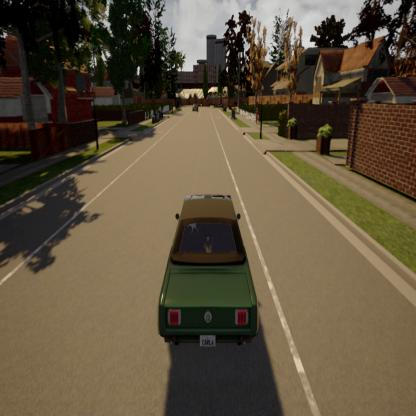Cars: (158, 194, 258, 351), (192, 102, 200, 114)
Pedestrian: (254, 105, 260, 125)
